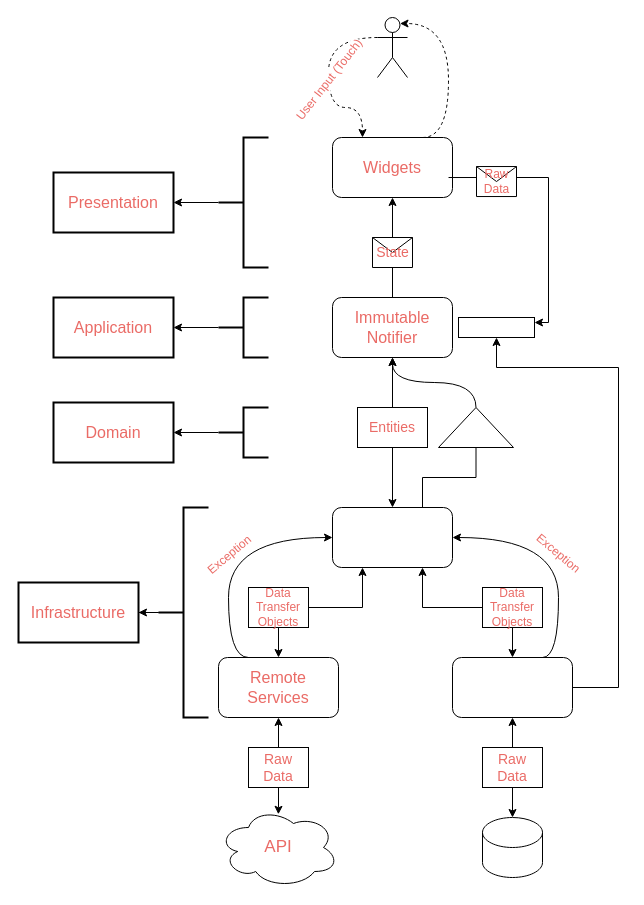
This 644x905 diagram has some shape labels left out. Each missing label, with the centre of its shape:
"DB" goes at pixel 512 847.
"Failure" goes at pixel 476 427.
"Local Services" goes at pixel 512 687.
"methods" goes at pixel 496 327.
"Repositories" goes at pixel 392 537.
"User" goes at pixel 392 47.
